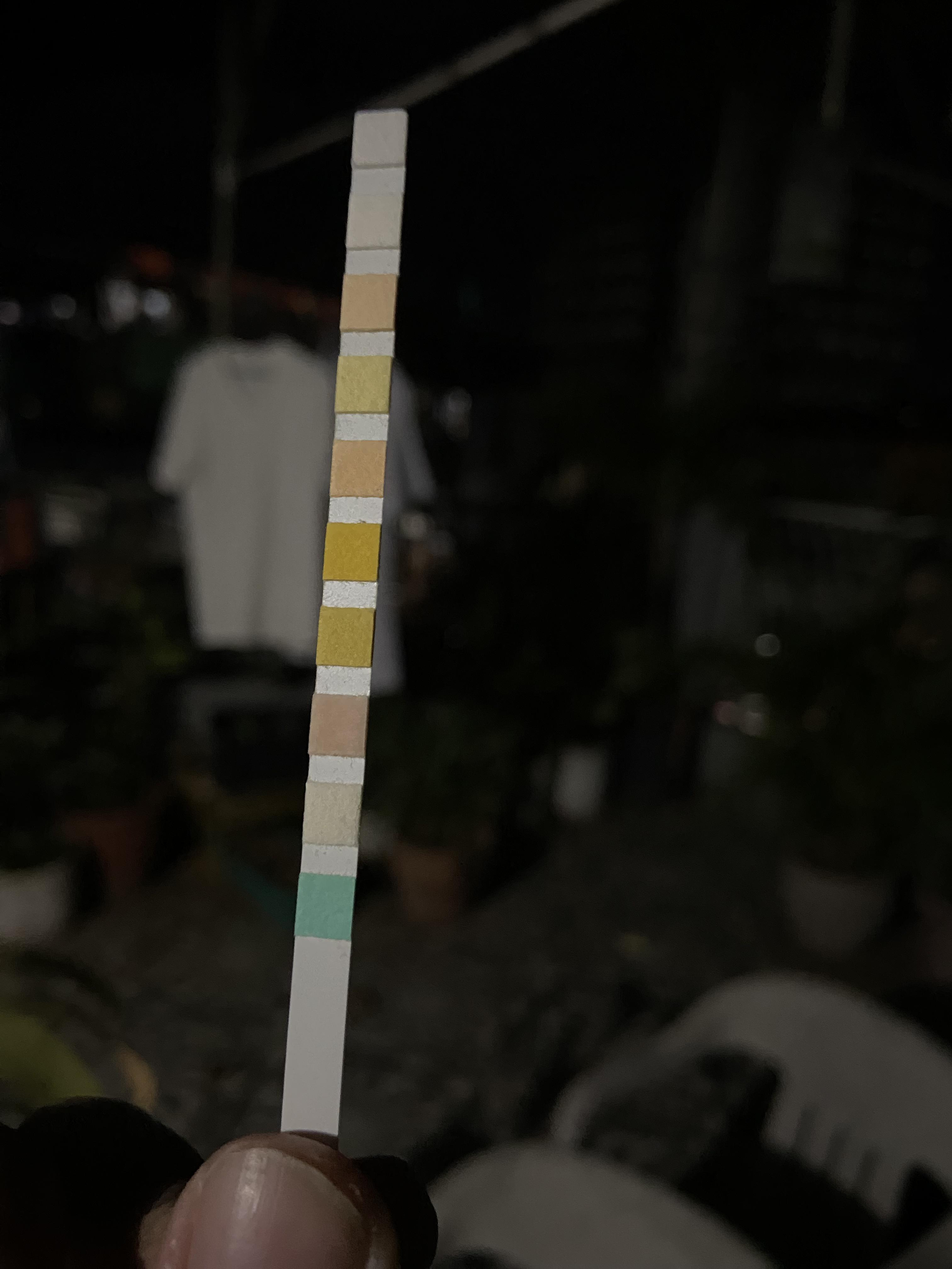Bilirubin: (308, 786, 357, 842)
Blood: (329, 525, 376, 579)
Glucose: (301, 879, 352, 933)
Ketone: (314, 698, 365, 753)
Leukocytes: (355, 114, 405, 163)
Nitrite: (351, 198, 399, 245)
Protein: (340, 359, 386, 409)
SpGravity: (321, 610, 372, 663)
Urobilinogen: (345, 279, 391, 329)
pH: (336, 442, 382, 493)
strip: (282, 109, 408, 1126)
